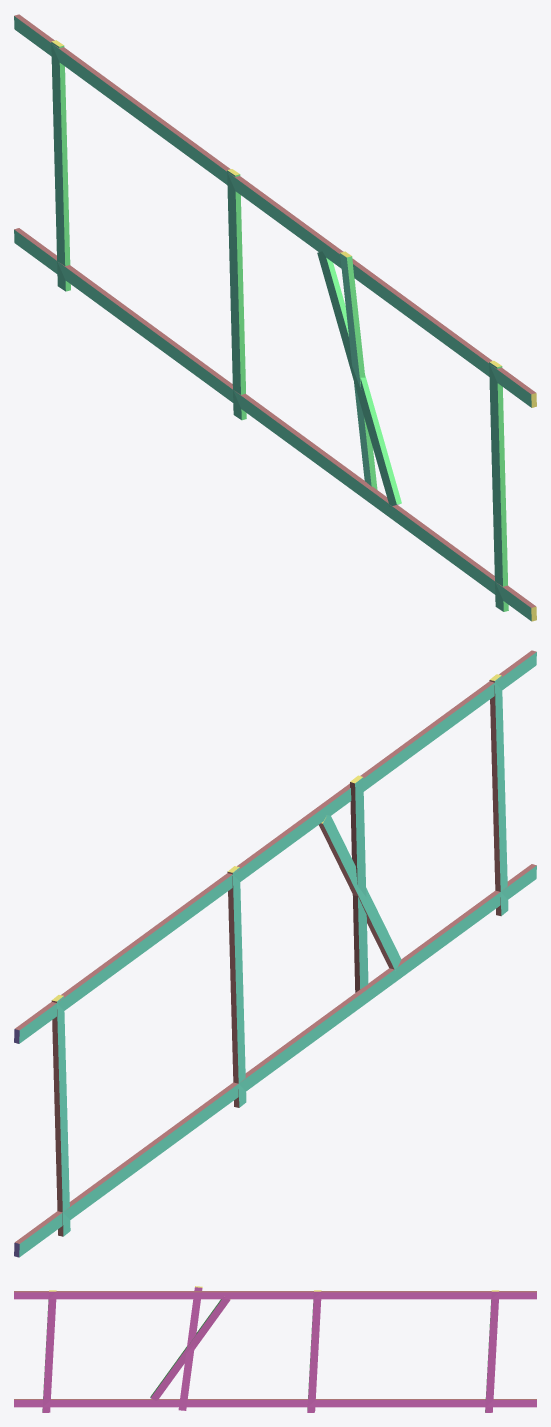
File: barriere.FBX
The picture shows the model from 3 angles, top to bottom: view 1: azimuth 30°, elevation 25°; view 2: azimuth 150°, elevation 25°; view 3: azimuth 270°, elevation 25°; orthographic projection. The views are drawn at different scales.
Visible parts, largest first — view 1: Object003; view 2: Object003; view 3: Object003.
Part boxes in pixels (box(x1,y1,x2,y2)): Object003: box(14, 14, 536, 621); Object003: box(14, 650, 536, 1257); Object003: box(14, 1286, 536, 1412).
Bounding box in the file's own units: 15.32 × 217 × 829.
